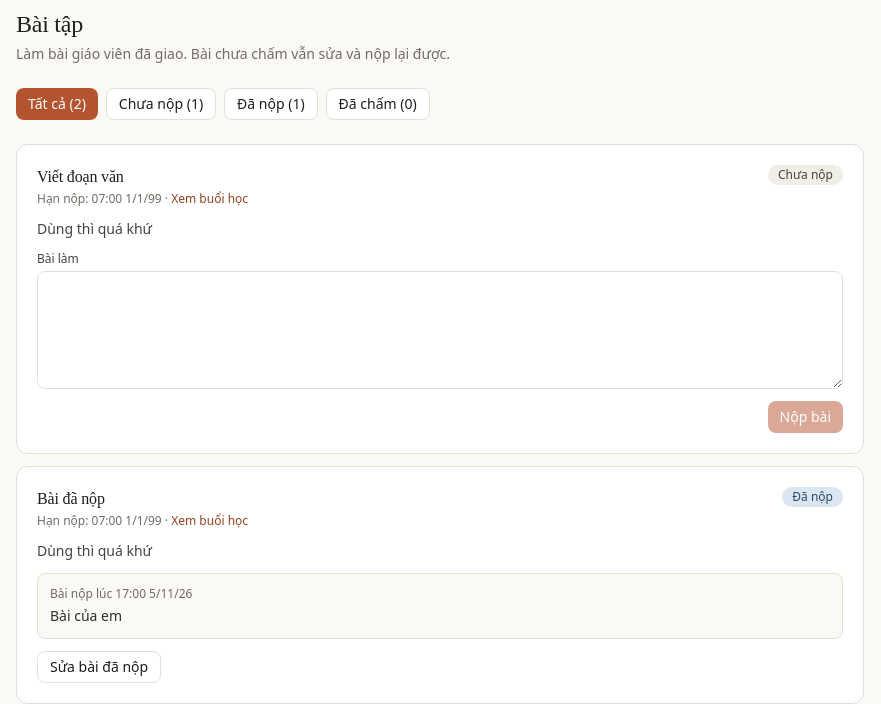
AssignmentsPage › lọc theo trạng thái
The width and height of the screenshot is (881, 704).
Expected: the heading "Viết đoạn văn" is shown, [37,168,124,185]
Click the button "Đã nộp (1)": (271, 104) [224,88,318,120]
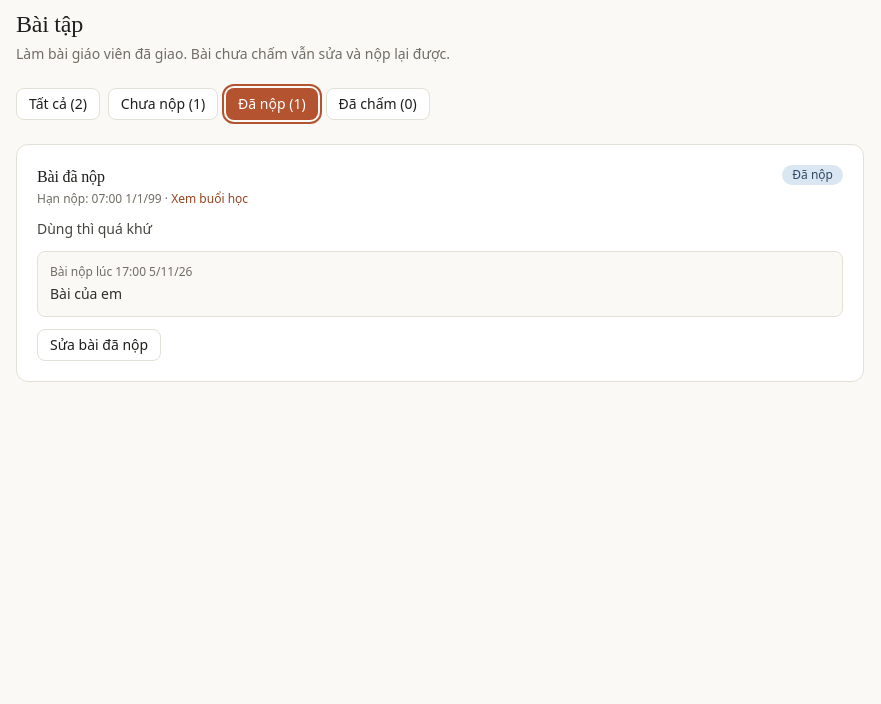
Expected: the heading "Bài đã nộp" is shown, [37,168,105,185]
Expected: the heading "Viết đoạn văn" is gone
